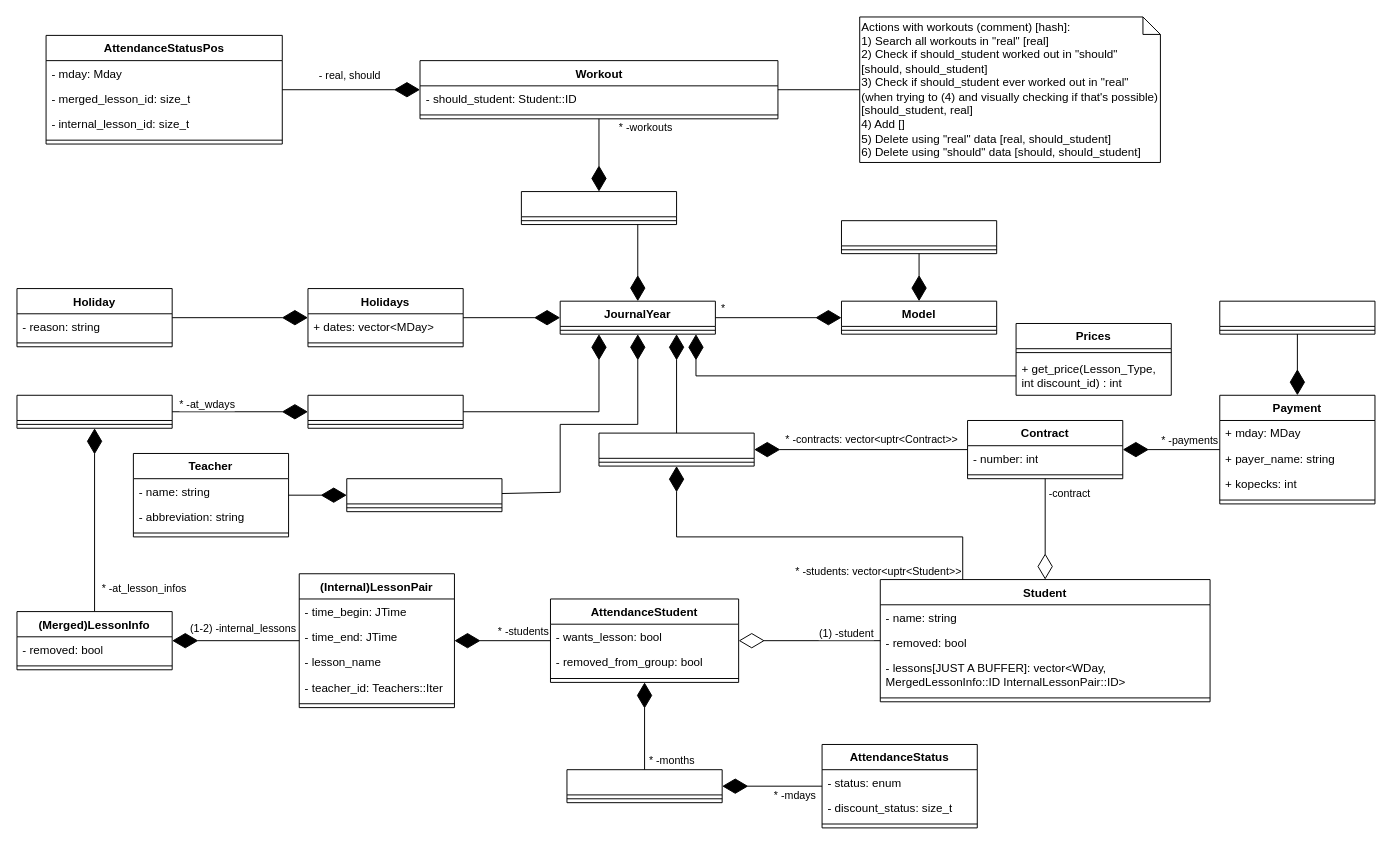
Image size: 1392x845. Some labels were removed from this diagram. The shapes that lost their labels are listed below. From the top down, each one's centre as x and y in pixels, then its label:
At (x=598, y=208): "Workouts".
At (x=919, y=237): "JournalLoader".
At (x=1297, y=317): "PaymentLoader".
At (x=94, y=411): "AttendanceWDay".
At (x=385, y=411): "AttendanceWDays".
At (x=676, y=449): "Students".
At (x=424, y=495): "Teachers".
At (x=644, y=786): "AttendanceMonth".
